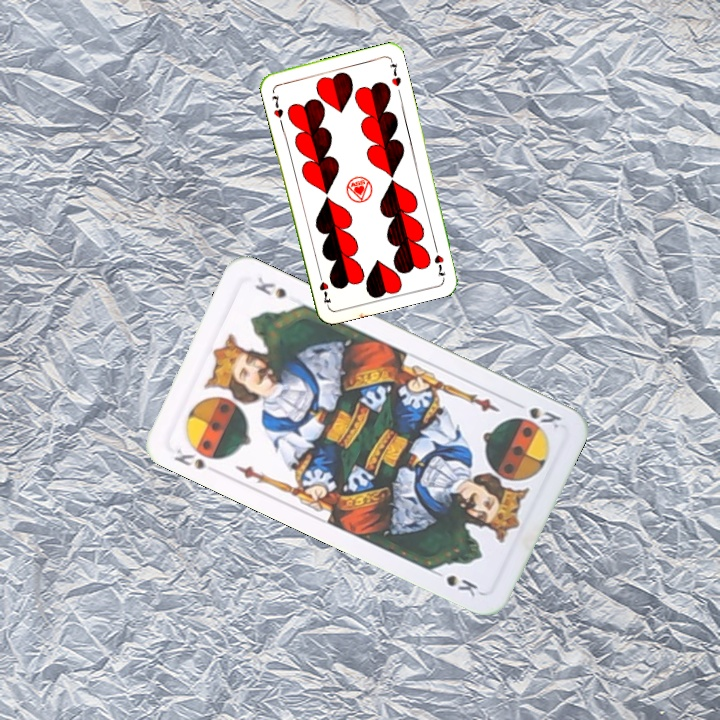H7: (430, 240, 448, 280), (268, 91, 286, 126)
SK: (509, 397, 564, 432), (170, 444, 207, 473)
